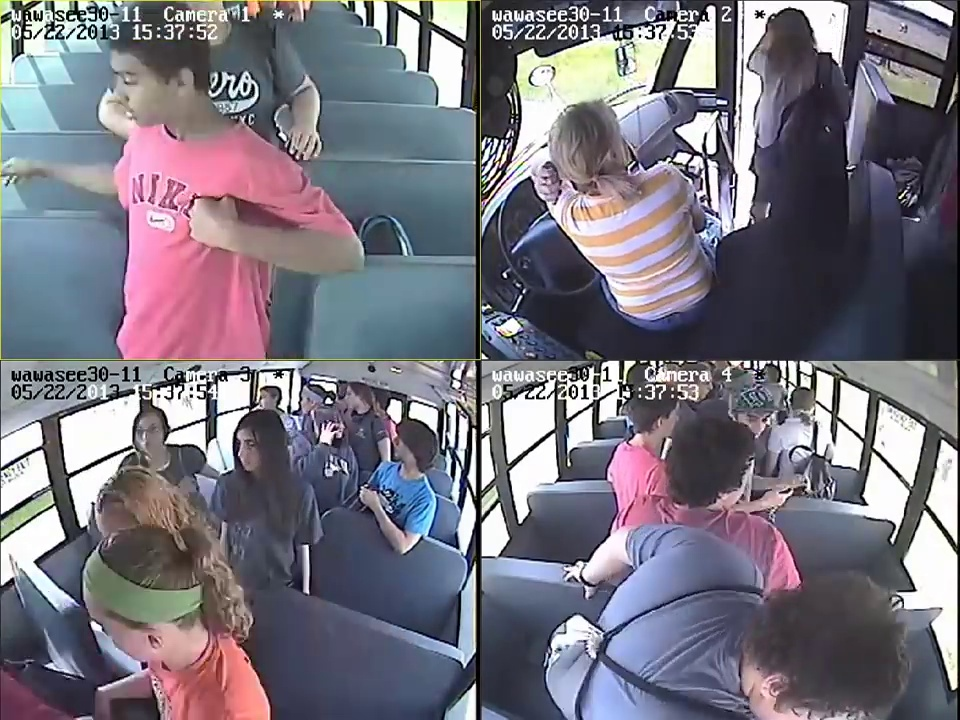face: (110, 44, 167, 127), (223, 424, 273, 475), (127, 410, 165, 462), (388, 424, 420, 465), (343, 387, 369, 413), (256, 387, 280, 410)
